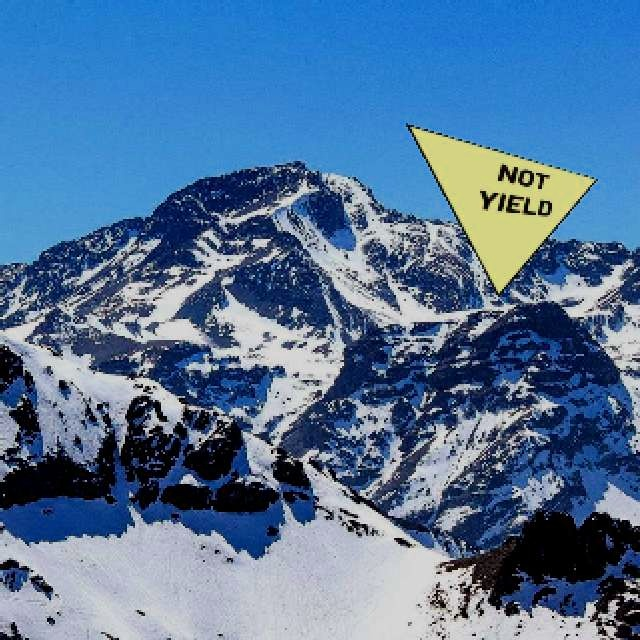NOT_YIELD: (404, 122, 596, 295)
